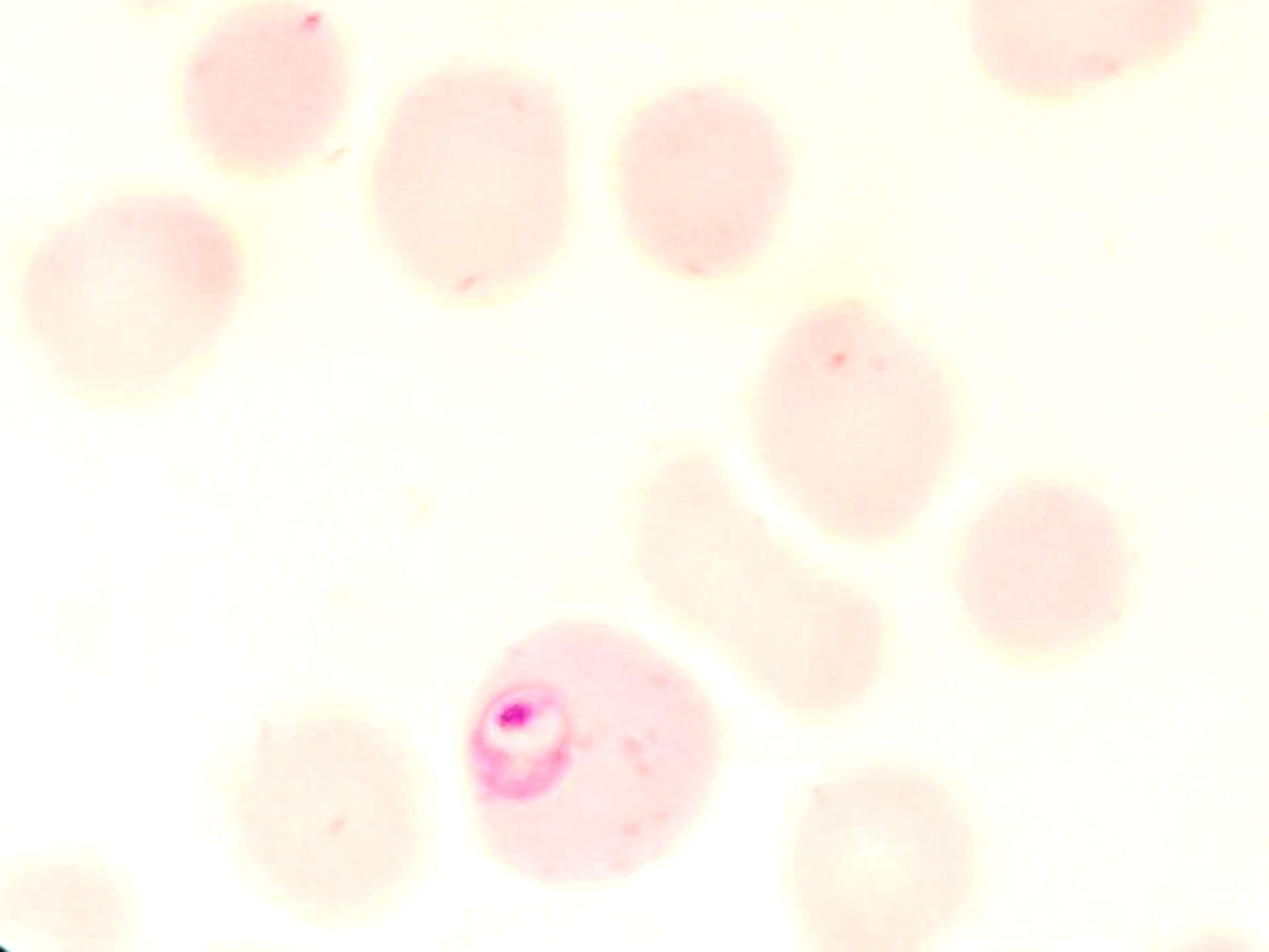Infected: (464, 618, 721, 885)
Uninfected: (630, 448, 886, 713), (744, 296, 962, 543), (367, 66, 577, 292), (17, 187, 245, 391), (233, 711, 430, 910), (791, 757, 975, 952), (608, 83, 789, 272), (947, 481, 1128, 653), (180, 0, 352, 170)
